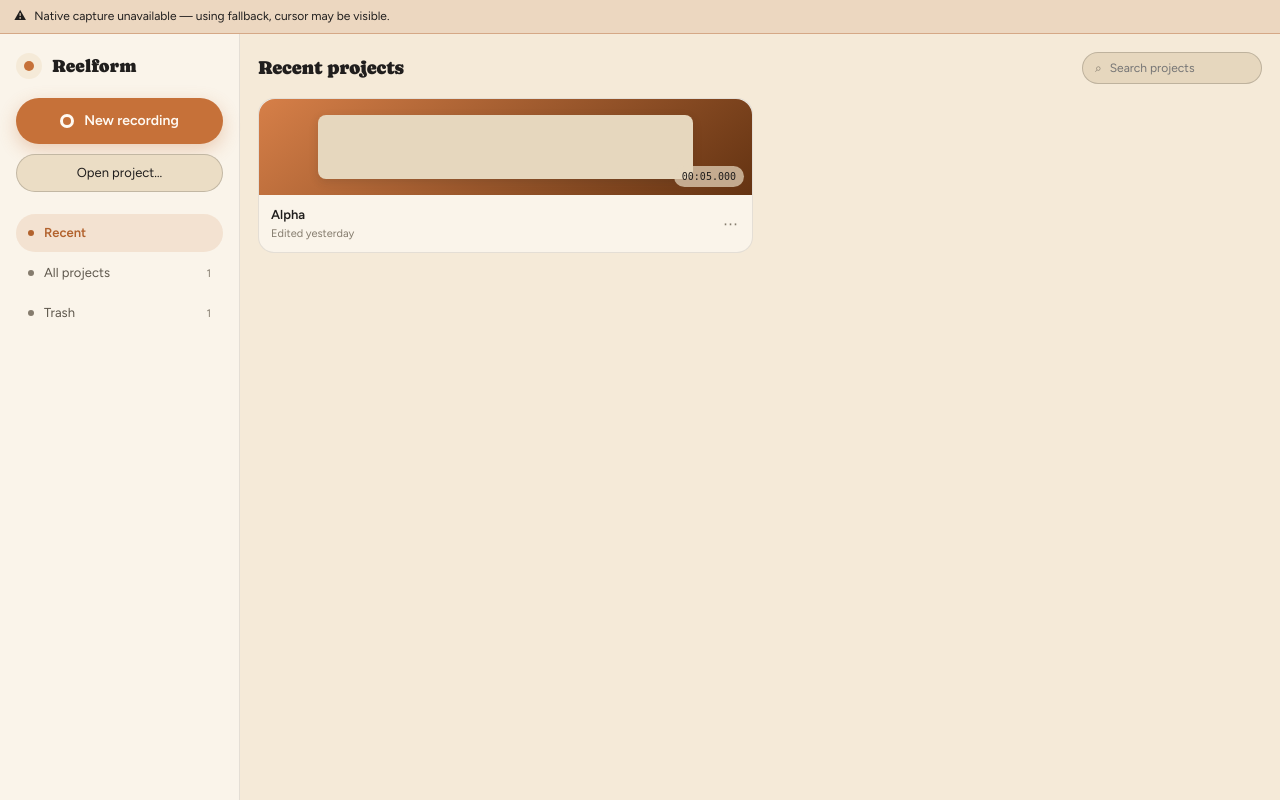
Test: LauncherContainer — project card menu and Open project… › Open project… on a folder that isn't a project explains why
Step 1. Click the button "Open project…" → (120, 173), box [16,154,223,192]
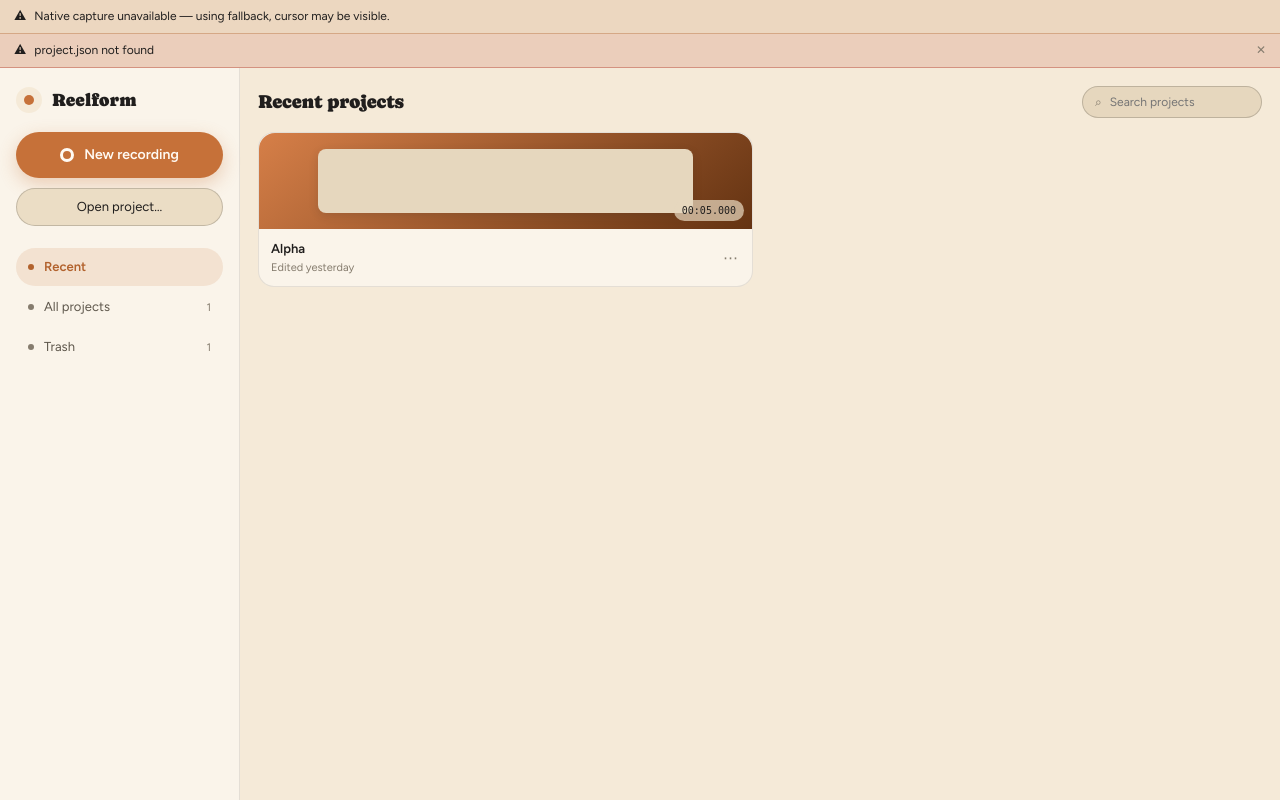
Expected: the message with test id "launcher-notice-project-action" shows "project.json not found", [34,43,154,57]
